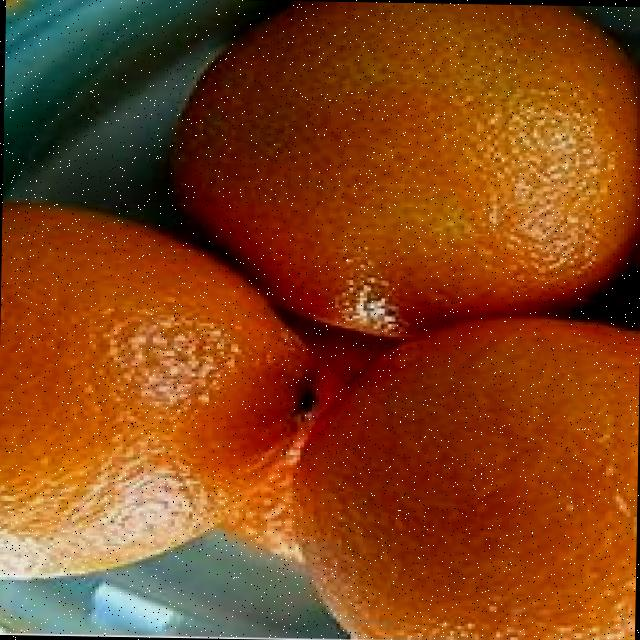Ripe: (162, 0, 640, 331), (282, 318, 639, 640), (0, 194, 281, 581)
